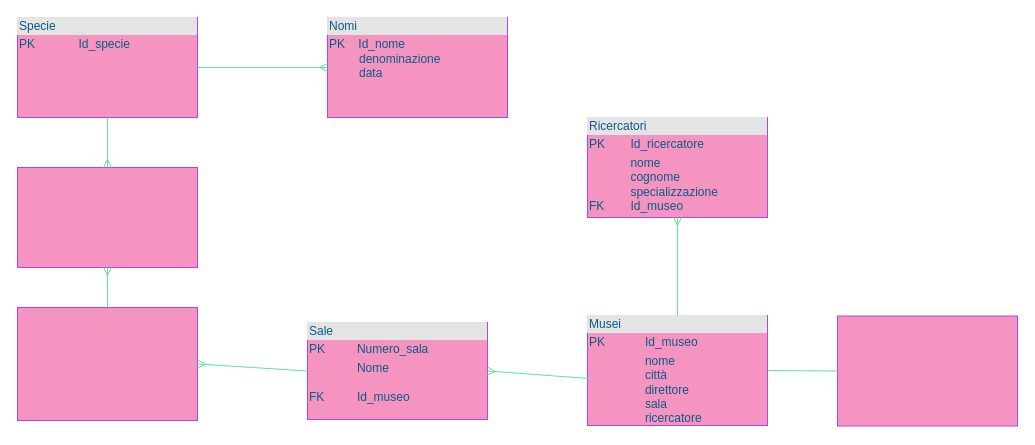
Some shapes in this 1035 by 445 pixel diagram are drawn without their labels. Here are the shapes that lost their labels. From the top down, the centre of each, then its label:
(x=107, y=217): Reperti Specie PK Id_reperto_specie FK probabilità Id specie Id reperto
(x=107, y=363): Reperti PK Id_reperto luogo anno ricercatore FK Numero_sala
(x=927, y=370): Direttori PK Id_direttore nome cognome specializzazione FK Id_museo
